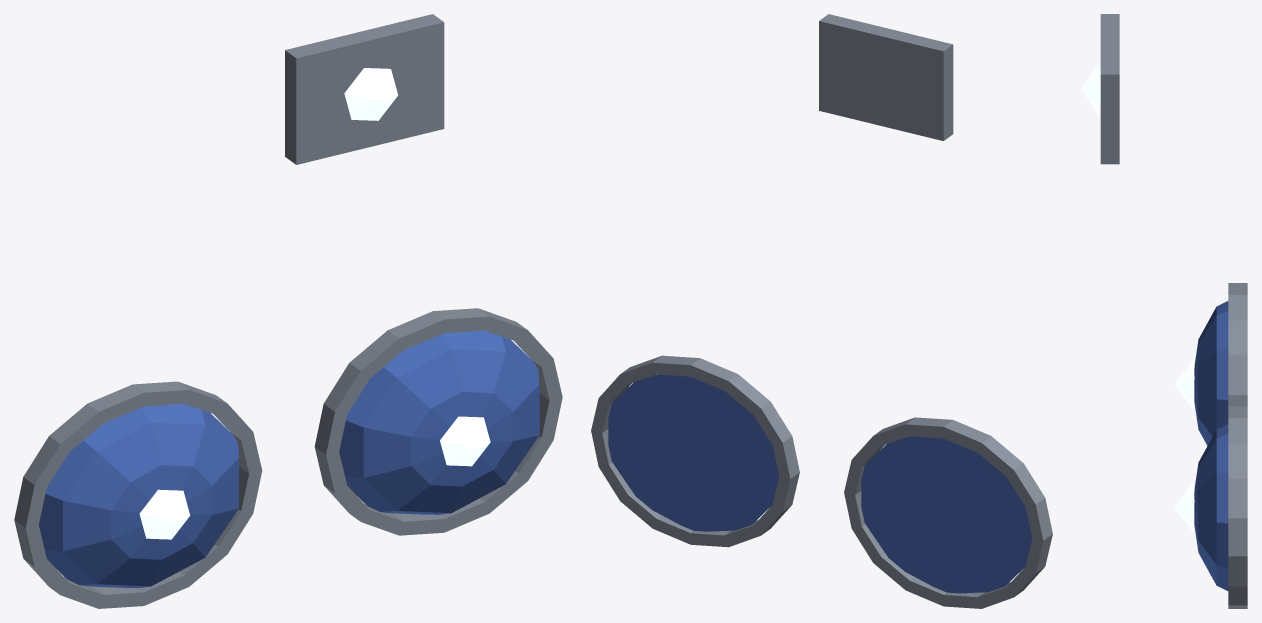
Rendered from armor_knight_legs_rare_human.glb.
The picture shows the model from 3 angles, left to right: view 1: azimuth 30°, elevation 25°; view 2: azimuth 150°, elevation 25°; view 3: azimuth 270°, elevation 25°; orthographic projection. The views are drawn at different scales.
Parts seen in each view (by area): view 1: armor_knight_legs_rare_human__calf_r, armor_knight_legs_rare_human__calf_l, armor_knight_legs_rare_human__pelvis; view 2: armor_knight_legs_rare_human__calf_r, armor_knight_legs_rare_human__calf_l, armor_knight_legs_rare_human__pelvis; view 3: armor_knight_legs_rare_human__calf_l, armor_knight_legs_rare_human__calf_r, armor_knight_legs_rare_human__pelvis.
Part boxes in pixels (left/top/right/bottom): armor_knight_legs_rare_human__calf_r: left=14, top=381, right=262, bottom=608; armor_knight_legs_rare_human__calf_l: left=314, top=308, right=562, bottom=535; armor_knight_legs_rare_human__pelvis: left=285, top=14, right=444, bottom=164; armor_knight_legs_rare_human__calf_r: left=844, top=417, right=1052, bottom=608; armor_knight_legs_rare_human__calf_l: left=591, top=355, right=799, bottom=547; armor_knight_legs_rare_human__pelvis: left=819, top=14, right=953, bottom=140; armor_knight_legs_rare_human__calf_l: left=1174, top=406, right=1247, bottom=608; armor_knight_legs_rare_human__calf_r: left=1174, top=283, right=1247, bottom=445; armor_knight_legs_rare_human__pelvis: left=1081, top=14, right=1119, bottom=164.
Size of the model in its own units: 32.67 by 34 by 10.42.
